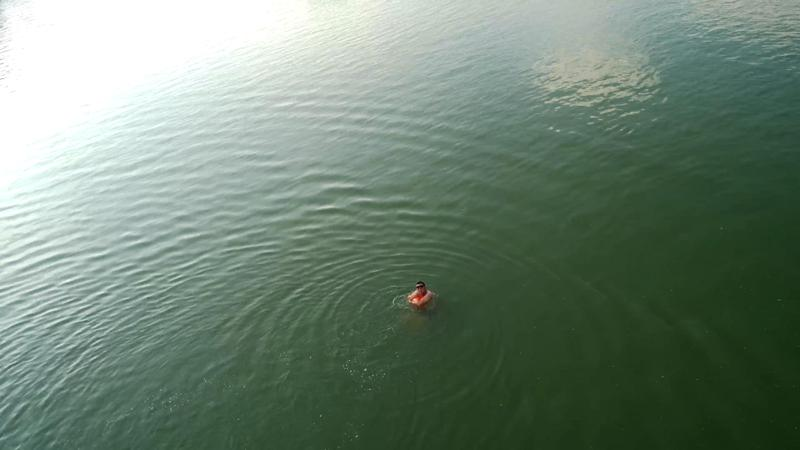swimmers: (407, 280, 433, 307)
